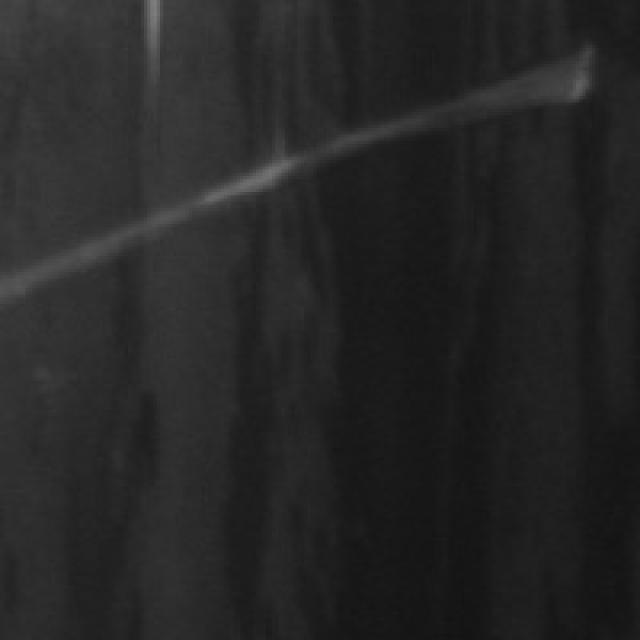scratches: (10, 42, 592, 304)
